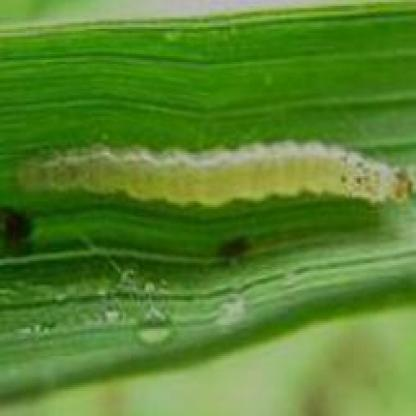leaf-folder: (13, 113, 416, 215)
